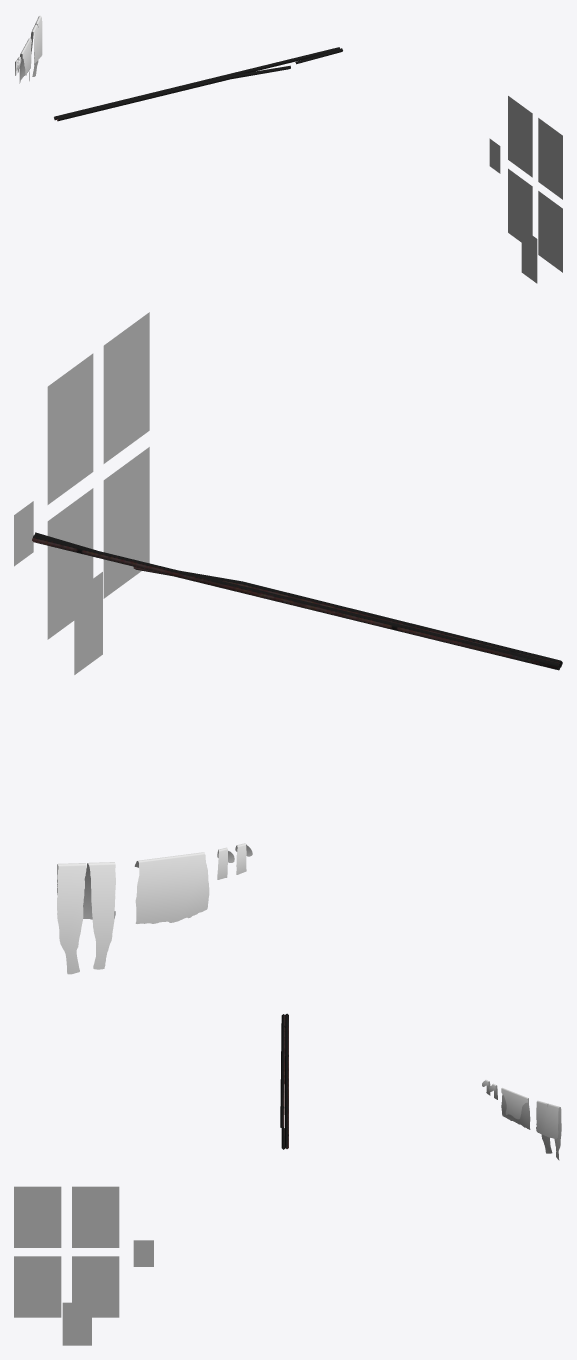
Rendered from BunkerAdd.fbx.
3 renders of one model, top to bottom at view 1: azimuth 30°, elevation 25°; view 2: azimuth 150°, elevation 25°; view 3: azimuth 270°, elevation 25°, orthographic. The views are drawn at different scales.
Visible parts, largest first — view 1: Plane.016, Plane.017, Plane.015, Plane.008, Cylinder.080, Cylinder.074, Plane.013, Plane.003, Plane.002; view 2: Plane.016, Plane.017, Plane.015, Plane.003, Plane.008, Plane.002, Cylinder.074, Plane.013, Cylinder.080, Plane.019; view 3: Plane.008, Plane.015, Plane.016, Plane.017, Plane.003, Plane.013, Plane.002, Cylinder.080, Plane.019, Cylinder.074.
Part boxes in pixels (<box>): Plane.016: <box>508,96,532,177</box>; Plane.017: <box>538,118,562,199</box>; Plane.015: <box>538,191,562,272</box>; Plane.008: <box>508,168,532,242</box>; Cylinder.080: <box>56,48,342,121</box>; Cylinder.074: <box>54,47,339,120</box>; Plane.013: <box>521,228,537,283</box>; Plane.003: <box>29,15,42,81</box>; Plane.002: <box>19,38,31,83</box>; Plane.016: <box>47,353,93,504</box>; Plane.017: <box>103,312,149,463</box>; Plane.015: <box>103,447,149,598</box>; Plane.003: <box>57,862,115,974</box>; Plane.008: <box>47,488,93,639</box>; Plane.002: <box>134,852,209,923</box>; Cylinder.074: <box>32,535,561,670</box>; Plane.013: <box>74,572,102,674</box>; Cylinder.080: <box>34,532,562,667</box>; Plane.019: <box>14,501,33,566</box>; Plane.008: <box>72,1256,119,1317</box>; Plane.015: <box>14,1256,61,1317</box>; Plane.016: <box>72,1186,119,1247</box>; Plane.017: <box>14,1186,61,1247</box>; Plane.003: <box>536,1100,561,1160</box>; Plane.013: <box>62,1302,91,1345</box>; Plane.002: <box>501,1087,530,1129</box>; Cylinder.080: <box>280,1014,285,1149</box>; Plane.019: <box>133,1240,153,1266</box>; Cylinder.074: <box>285,1013,288,1148</box>.
Bounding box in the file's own units: 475 × 212 × 648.
